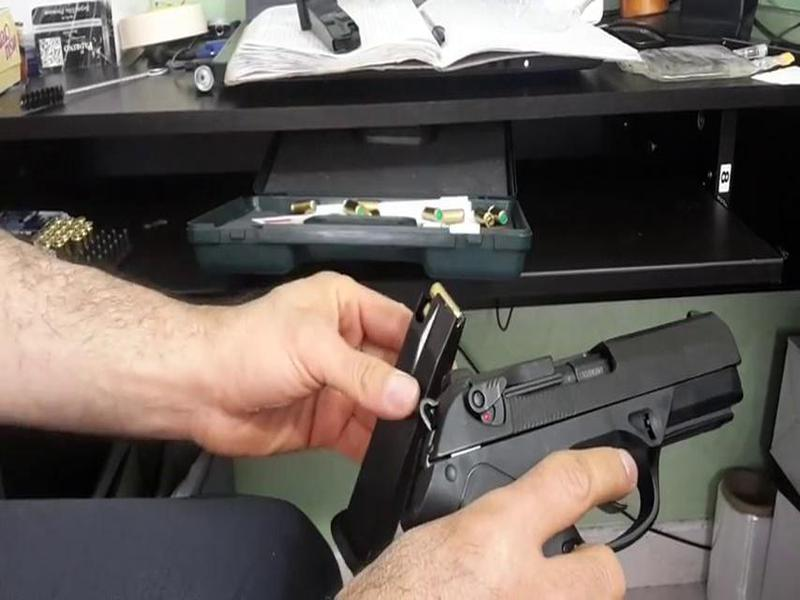Pistola: (407, 318, 776, 569)
